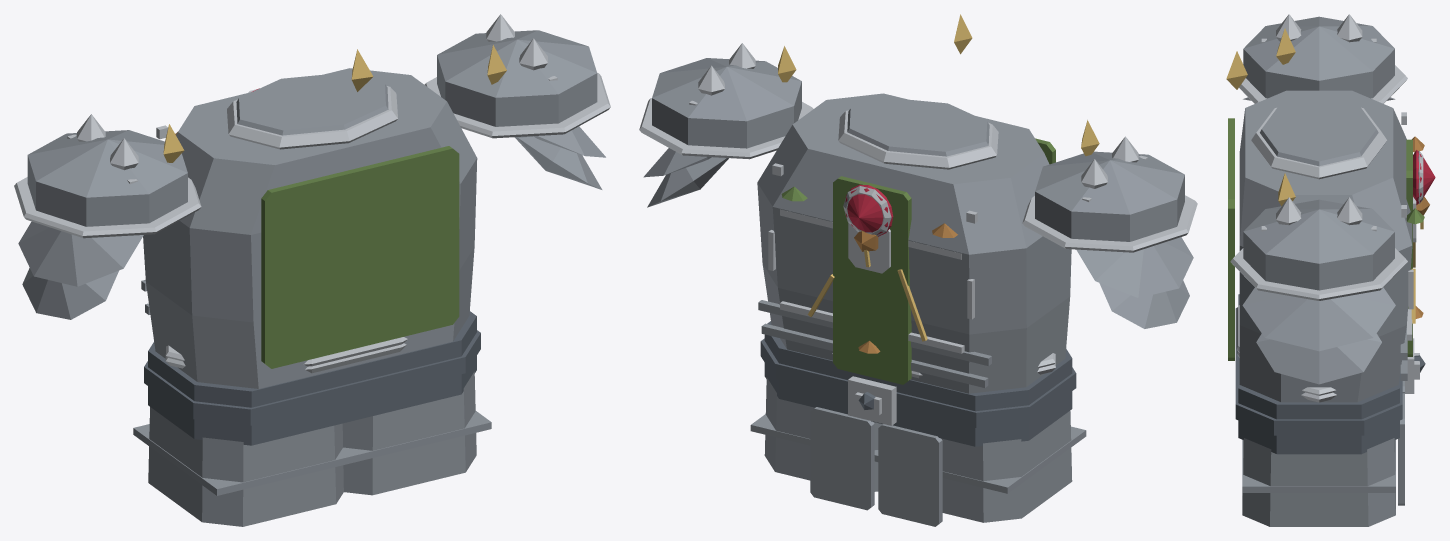
Rendered from armor_greatsword_s5.fbx.
3 renders of one model, left to right at view 1: azimuth 30°, elevation 25°; view 2: azimuth 150°, elevation 25°; view 3: azimuth 270°, elevation 25°, orthographic. The views are drawn at different scales.
Visible parts, largest first — view 1: Chest_Body, Chest_Attach, Shoulder_L_Body, Chest_Inner, Tasset_L_Body, Shoulder_R_Body, Tasset_R_Body, Shoulder_L_Trim, Chest_Trim, Shoulder_R_Trim, Chest_Crack_Tr, Chest_Trim_Ep; view 2: Chest_Body, Shoulder_L_Body, Tasset_L_Body, Chest_Inner, Shoulder_R_Body, Chest_Attach, Tasset_R_Body, Chest_Trim, Shoulder_L_Trim, Shoulder_R_Trim, Chest_Crack_Tr, Chest_CoreGem; view 3: Chest_Body, Shoulder_R_Body, Tasset_R_Body, Chest_Inner, Shoulder_L_Body, Chest_Trim, Shoulder_R_Trim, Chest_Attach, Shoulder_L_Trim, Chest_Crack_Tr, Chest_CoreGem, Chest_Trim_Ep.
Part boxes in pixels (x1,y1,x2,y2): Chest_Body: (141,68,477,388); Chest_Attach: (261,146,459,368); Shoulder_L_Body: (18,130,187,319); Chest_Inner: (144,311,480,445); Tasset_L_Body: (133,407,361,526); Shoulder_R_Body: (437,30,605,189); Tasset_R_Body: (342,371,491,495); Shoulder_L_Trim: (14,114,201,238); Chest_Trim: (156,86,406,373); Shoulder_R_Trim: (424,14,610,138); Chest_Crack_Tr: (163,45,506,162); Chest_Trim_Ep: (165,337,407,366); Chest_Body: (757,93,1071,393); Shoulder_L_Body: (1035,151,1193,328); Tasset_L_Body: (874,411,1086,526); Chest_Inner: (760,321,1076,446); Shoulder_R_Body: (643,58,801,207); Chest_Attach: (781,138,1055,384); Tasset_R_Body: (750,377,882,510); Chest_Trim: (768,110,1055,425); Shoulder_L_Trim: (1022,136,1197,252); Shoulder_R_Trim: (639,43,813,159); Chest_Crack_Tr: (778,14,1099,341); Chest_CoreGem: (845,184,893,236); Chest_Body: (1239,90,1412,402); Shoulder_R_Body: (1242,199,1395,384); Tasset_R_Body: (1242,393,1404,526); Chest_Inner: (1235,294,1425,454); Shoulder_L_Body: (1243,16,1395,100); Chest_Trim: (1237,107,1423,402); Shoulder_R_Trim: (1230,197,1407,300); Chest_Attach: (1228,118,1424,360); Shoulder_L_Trim: (1239,14,1407,103); Chest_Crack_Tr: (1226,28,1423,323); Chest_CoreGem: (1413,150,1435,204); Chest_Trim_Ep: (1236,305,1336,395).
Size of the model in its own units: 446 by 343 by 153.
